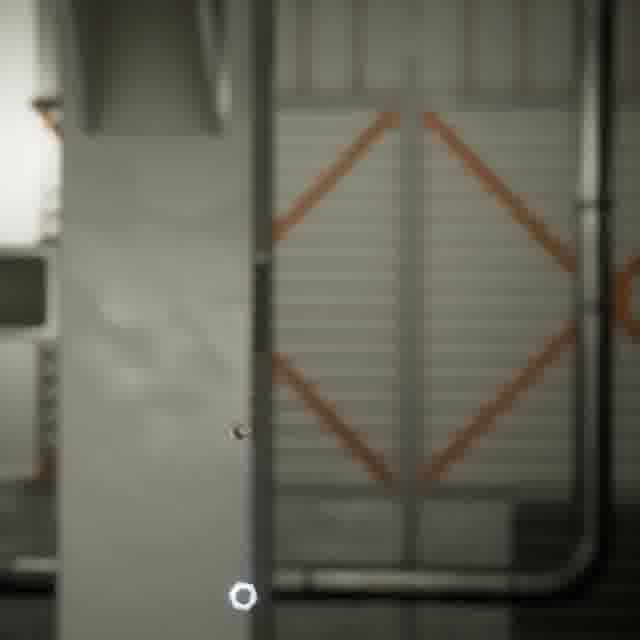bolt: (222, 416, 257, 445)
nut: (222, 576, 263, 615)
